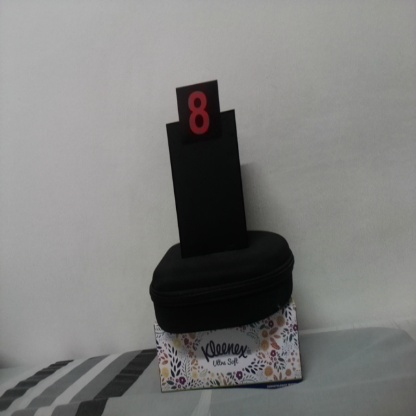id_8: (177, 87, 221, 150)
